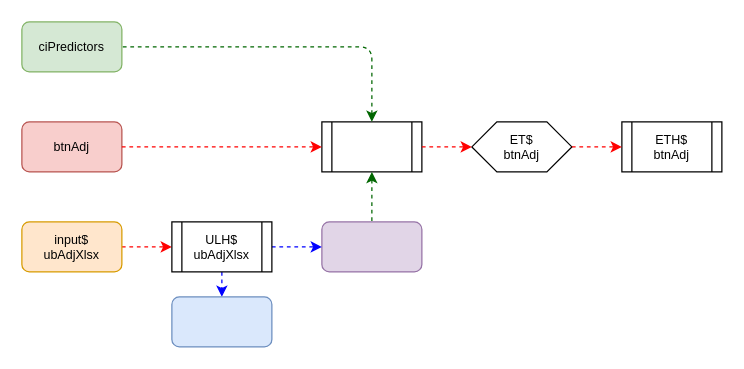
This 744x369 diagram has some shape labels left out. Each missing label, with the centre of its shape:
ABH$ btnAdj: the point at 371,146
output$ toAdjXlsxError: the point at 221,321
RV$ adjDf: the point at 371,246
